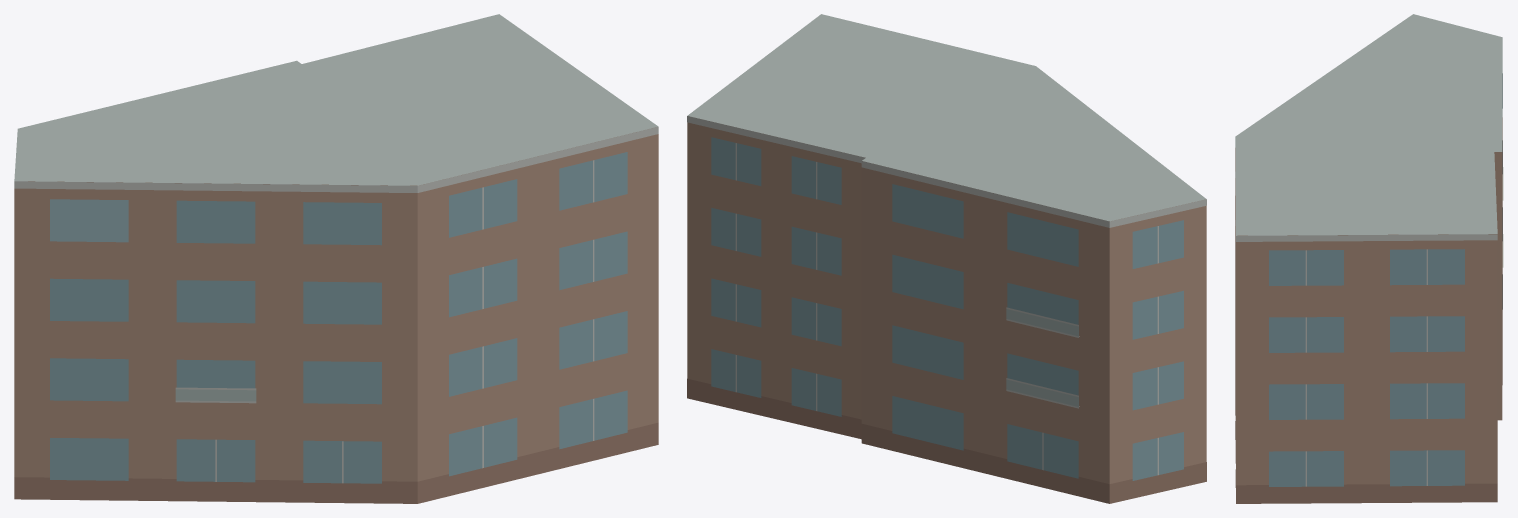
File: survey-upis-32925144.glb
The picture shows the model from 3 angles, left to right: view 1: azimuth 30°, elevation 25°; view 2: azimuth 150°, elevation 25°; view 3: azimuth 270°, elevation 25°; orthographic projection. The views are drawn at different scales.
Parts seen in each view (by area): view 1: survey-upis-32925144.tmp; view 2: survey-upis-32925144.tmp; view 3: survey-upis-32925144.tmp.
Part boxes in pixels (x1,y1,x2,y2): survey-upis-32925144.tmp: (14,14,658,503); survey-upis-32925144.tmp: (687,14,1206,503); survey-upis-32925144.tmp: (1235,14,1503,503).
Bounding box in the file's own units: 18.73 × 10.55 × 9.58.
